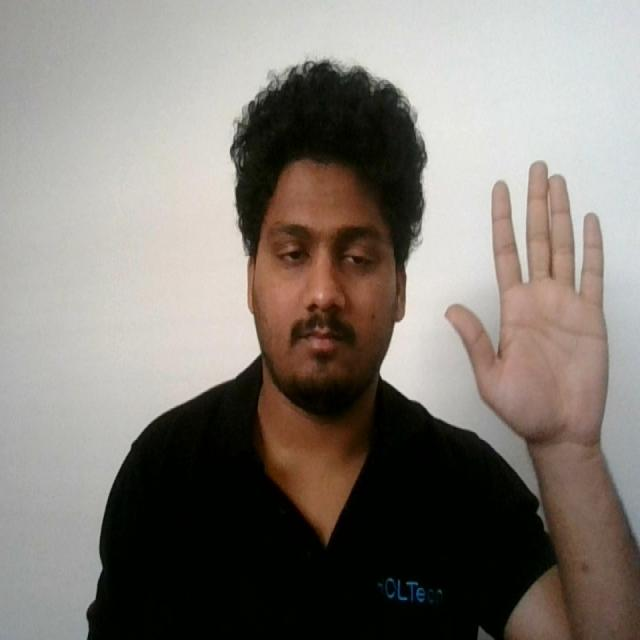Hello: (438, 154, 626, 457)
